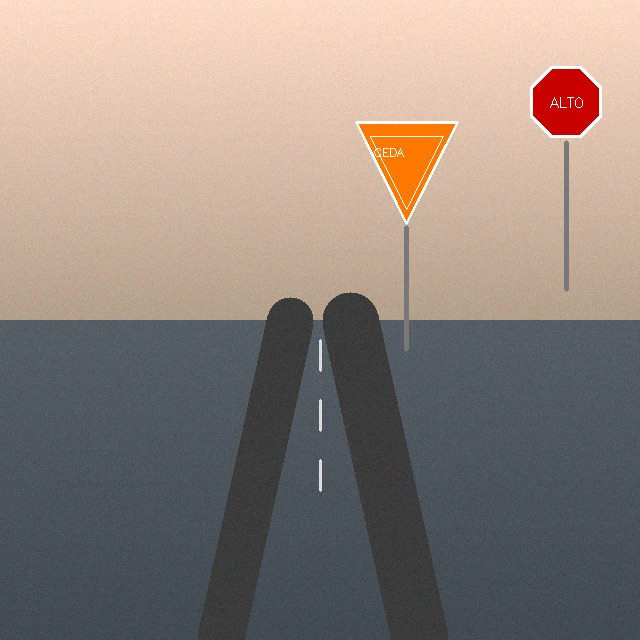alto: (527, 63, 606, 142)
ceda_el_paso: (352, 118, 461, 227)
